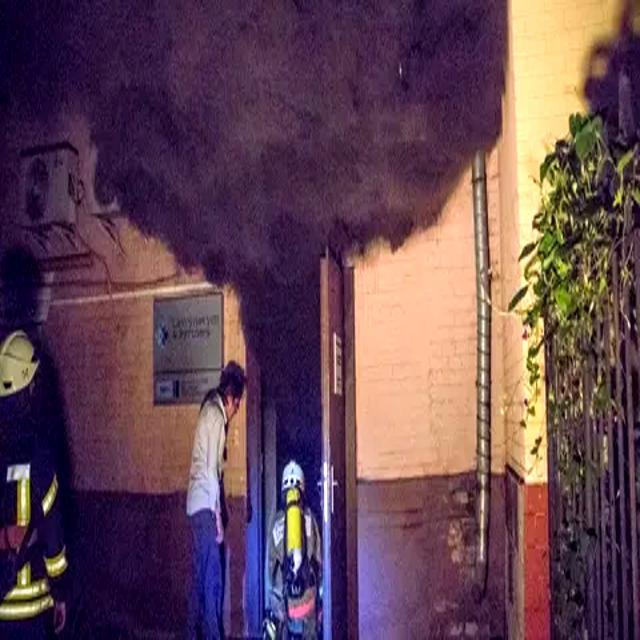Smoke: (56, 3, 508, 266)
